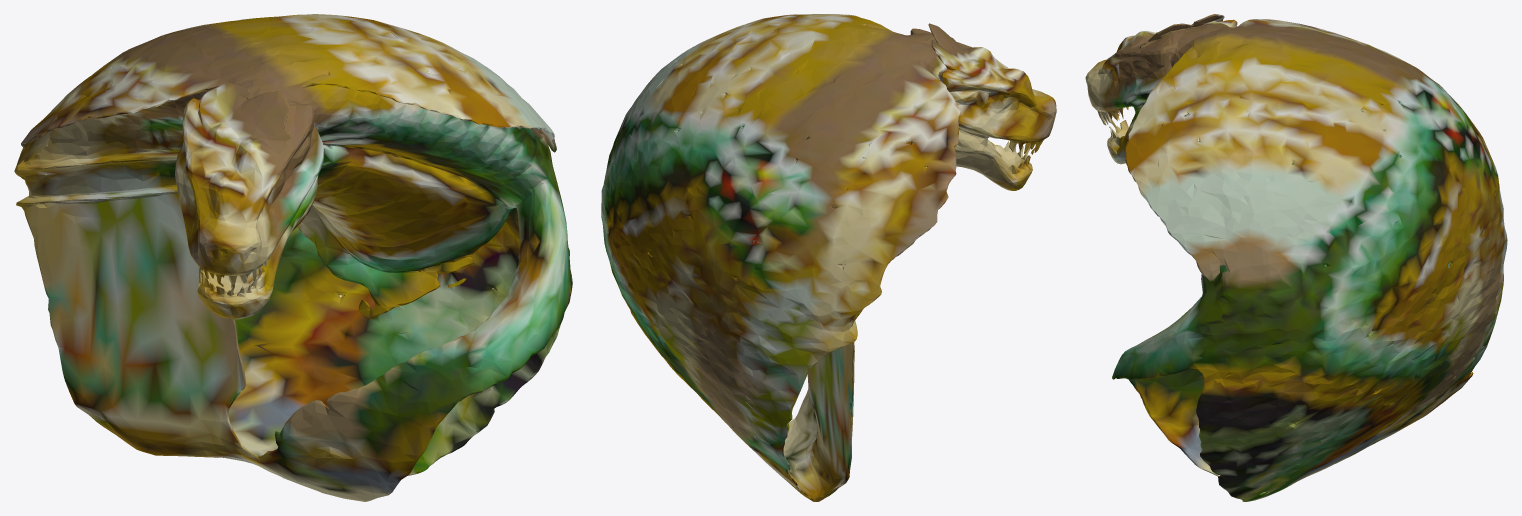
File: stagBeetle.glb
3 views of the same model, side by side, from view 1: azimuth 30°, elevation 25°; view 2: azimuth 150°, elevation 25°; view 3: azimuth 270°, elevation 25° (orthographic). The views are drawn at different scales.
Parts seen in each view (by area): view 1: world; view 2: world; view 3: world.
Boxes of the visible parts, x1,y1,x2,y2 form: world: [14, 14, 572, 501]; world: [601, 14, 1056, 501]; world: [1085, 14, 1507, 501].
Size of the model in its own units: 0.99 by 1 by 0.9278.
